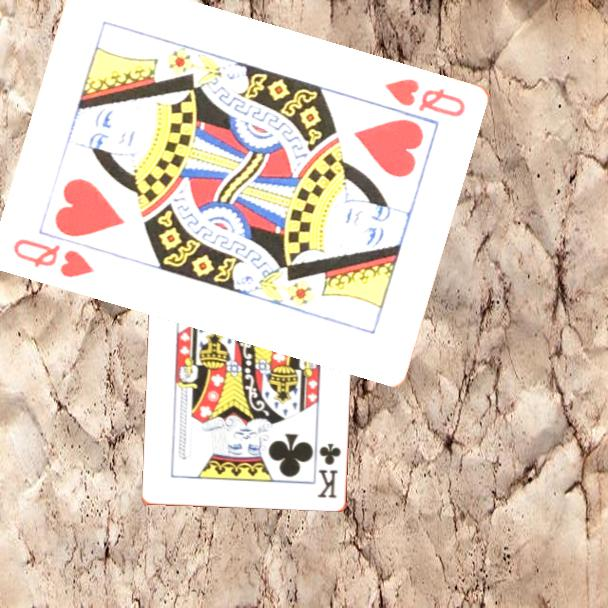c13: (314, 440, 344, 501)
h12: (10, 234, 98, 281), (381, 74, 469, 120)
